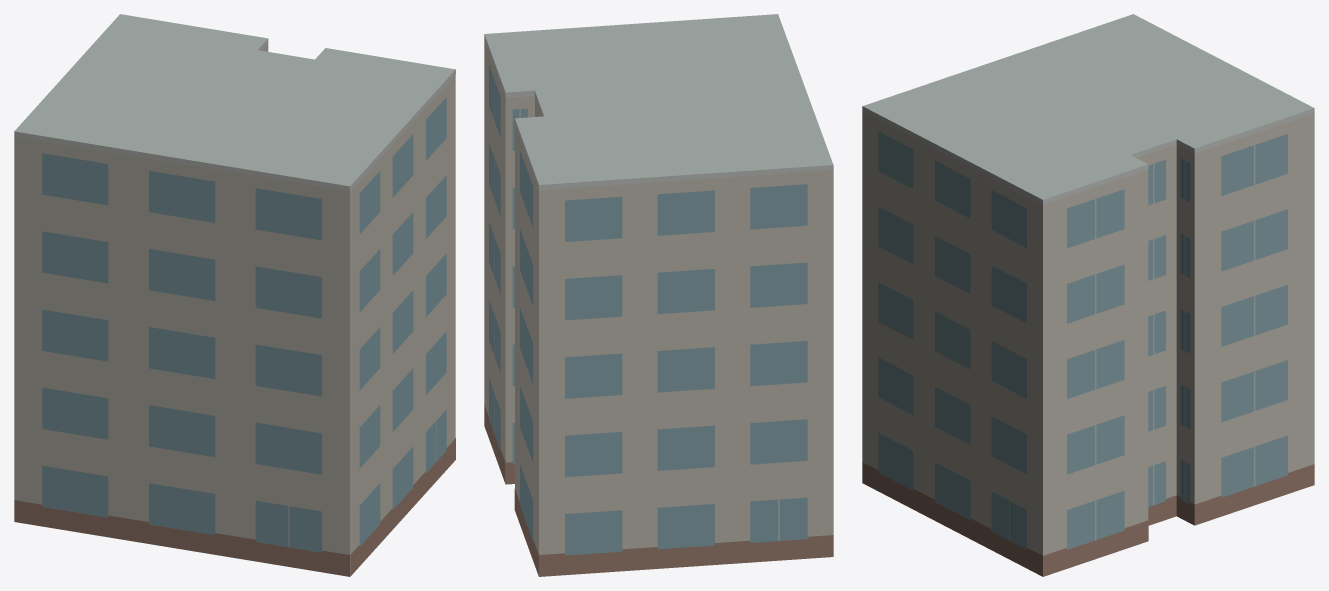
Rendered from survey-upis-32489380.glb.
3 views of the same model, side by side, from view 1: azimuth 30°, elevation 25°; view 2: azimuth 150°, elevation 25°; view 3: azimuth 270°, elevation 25° (orthographic). The views are drawn at different scales.
Visible parts, largest first — view 1: survey-upis-32489380.tmp; view 2: survey-upis-32489380.tmp; view 3: survey-upis-32489380.tmp.
Boxes of the visible parts, x1,y1,x2,y2 form: survey-upis-32489380.tmp: (14, 14, 455, 576); survey-upis-32489380.tmp: (484, 14, 833, 576); survey-upis-32489380.tmp: (862, 14, 1314, 576).
Size of the model in its own units: 19.1 by 18.05 by 19.63.
